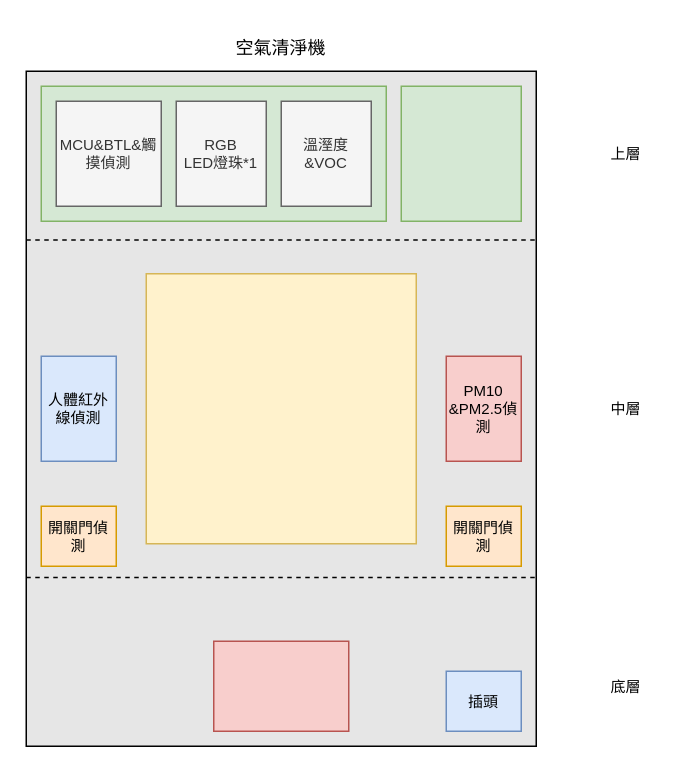
This 698x773 diagram has some shape labels left out. The shapes that lost their labels are listed below. From the top down, each one's box as (x1, y1, x2, y2) in pixels, then its label:
(400, 85, 521, 221): 馬達驅動& 變壓
(145, 272, 416, 544): 馬達
(212, 640, 349, 731): 喇叭
